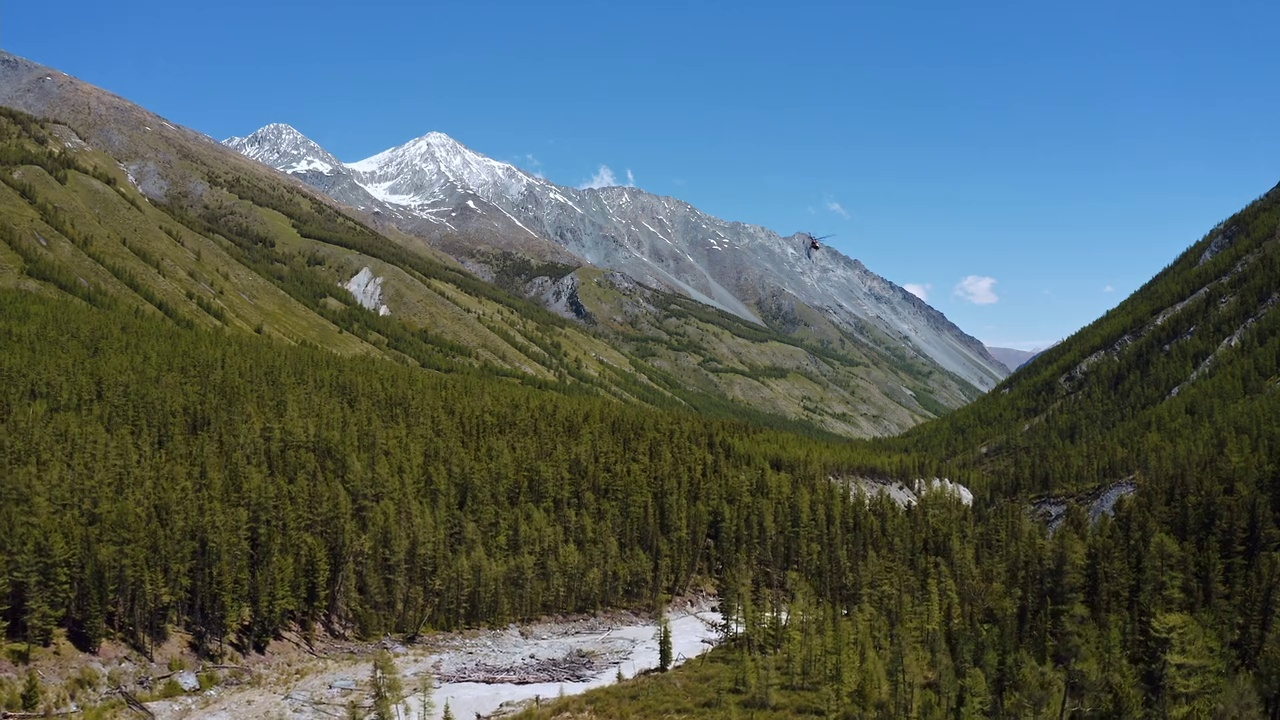heli: (798, 232, 834, 251)
